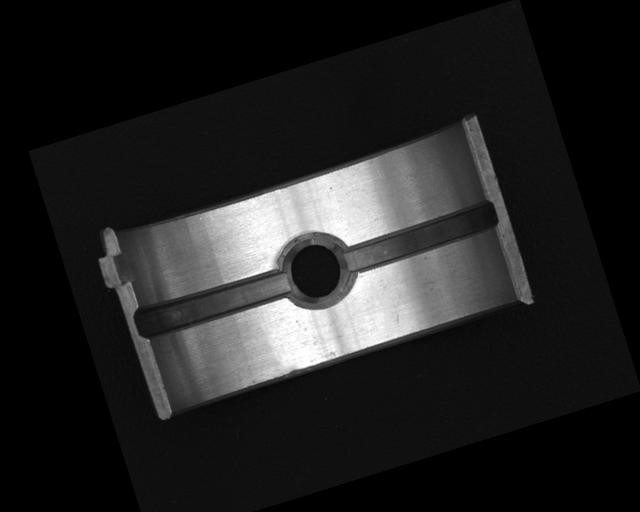gap: (335, 195, 502, 278), (131, 264, 294, 343)
hole: (272, 225, 361, 316)
